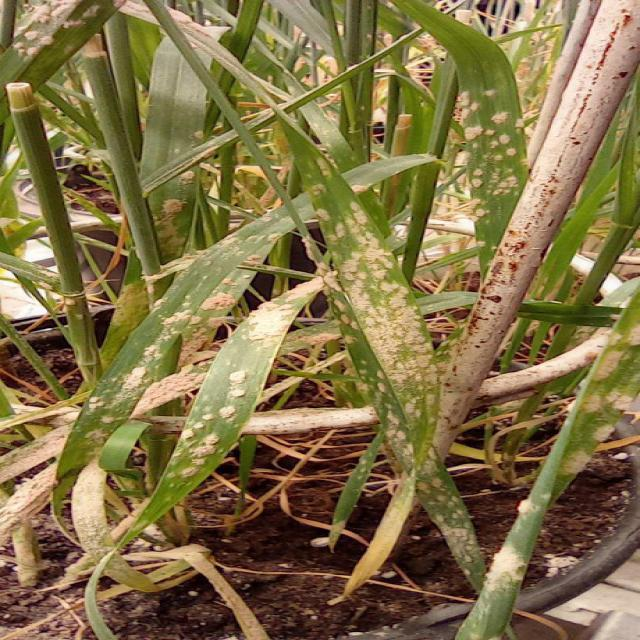Powdery Mildew: (123, 149, 477, 570)
